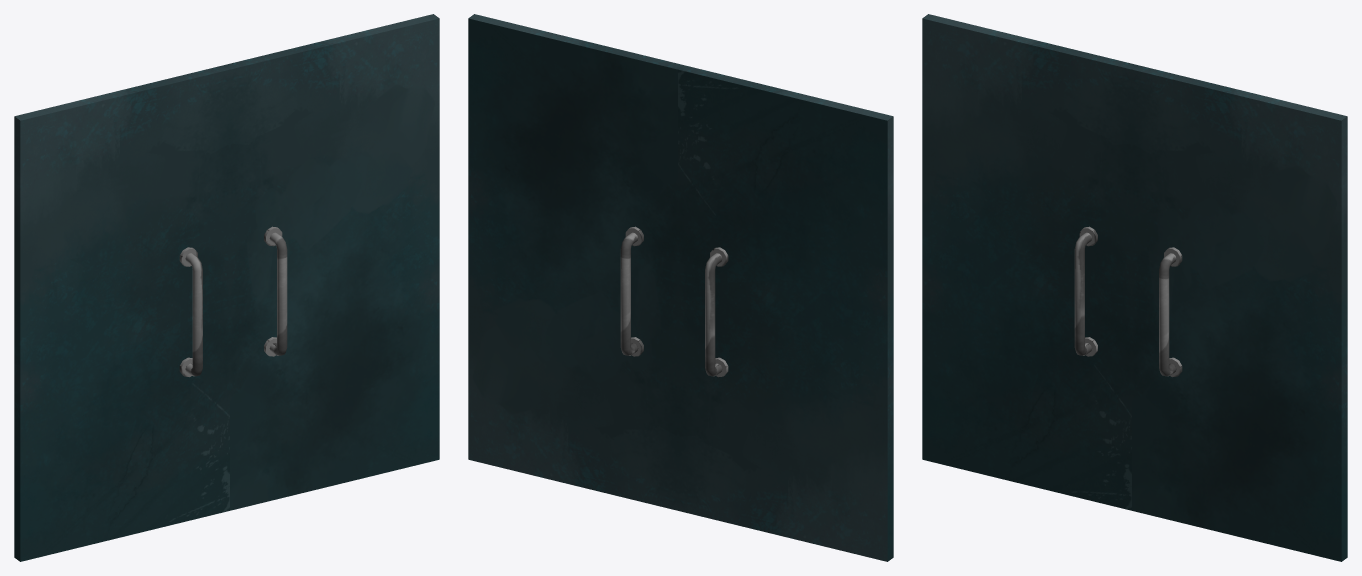
The model's file is DoubleDoorPush_Asset.fbx.
The picture shows the model from 3 angles, left to right: view 1: azimuth 30°, elevation 25°; view 2: azimuth 150°, elevation 25°; view 3: azimuth 330°, elevation 25°; orthographic projection.
Parts seen in each view (by area): view 1: DoubleDoor_PushL, DoubleDoor_PushR; view 2: DoubleDoor_PushL, DoubleDoor_PushR; view 3: DoubleDoor_PushR, DoubleDoor_PushL.
Part boxes in pixels (<box>): DoubleDoor_PushL: <box>14,65,229,561</box>; DoubleDoor_PushR: <box>224,14,439,510</box>; DoubleDoor_PushL: <box>678,65,893,561</box>; DoubleDoor_PushR: <box>468,14,683,510</box>; DoubleDoor_PushR: <box>1132,65,1347,561</box>; DoubleDoor_PushL: <box>922,14,1137,510</box>.
Bounding box in the file's own units: 199 × 25.26 × 200.
Materials: 1 (1 with a texture image).
